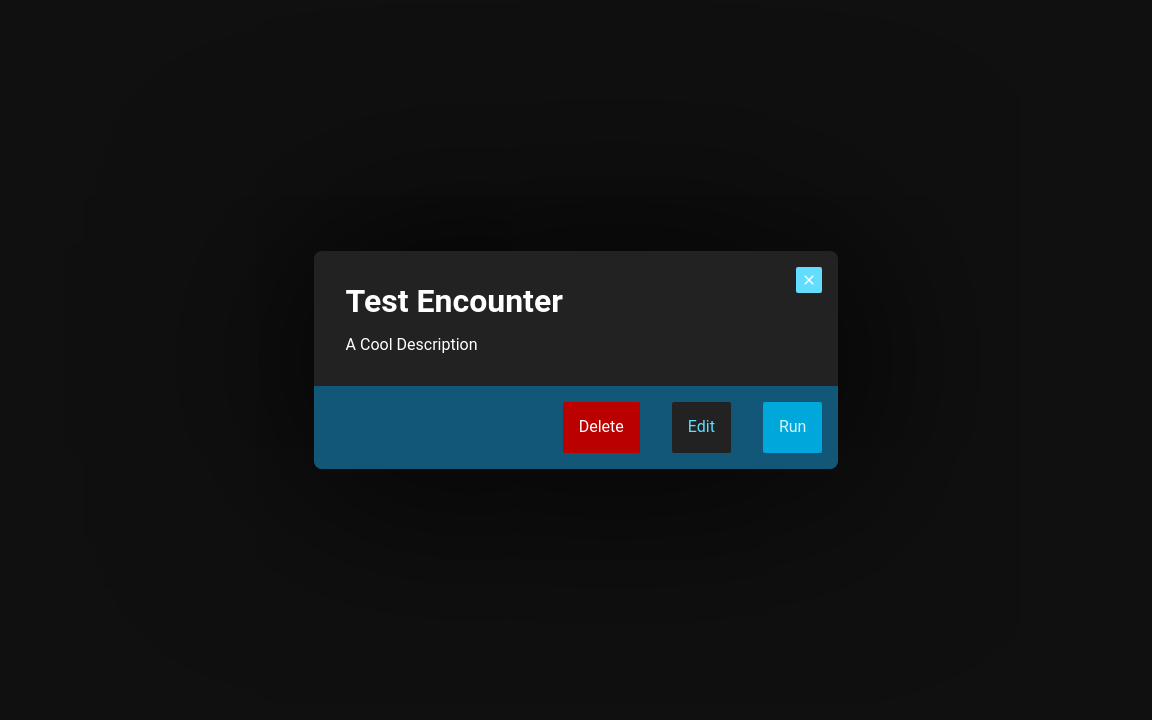
Test: Select Encounter Modal › should delete the encounter and close the modals when the Confirm button is clicked
This screenshot has width=1152, height=720.
Click the button labelled "Delete".
click(601, 428)  # box [563,402,640,453]
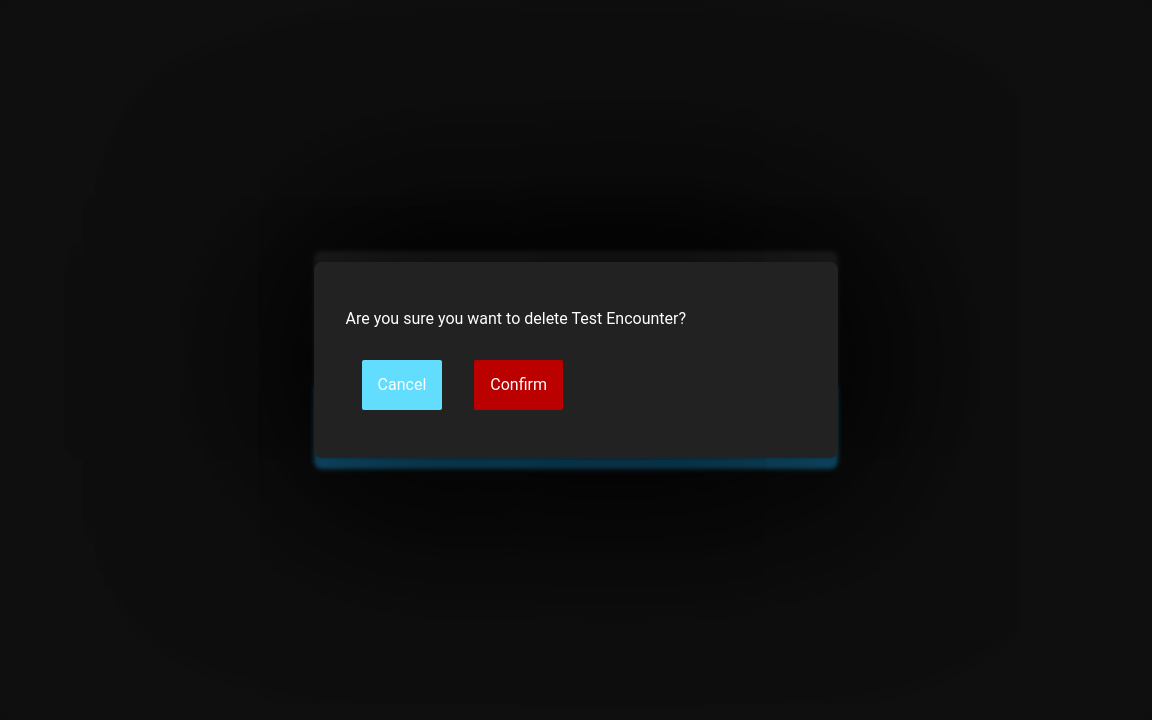
Click the button with aria-label "confirm delete".
click(519, 385)  # box [474,360,563,410]
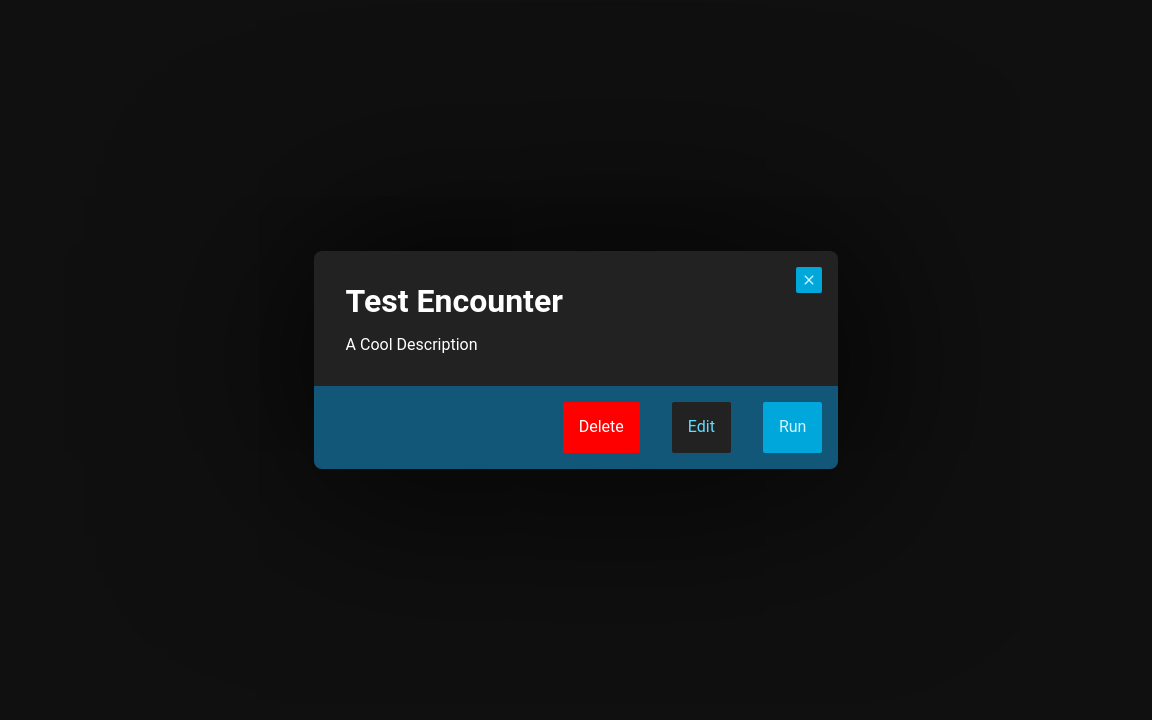
Now the text "Are you sure you want to delete Test Encounter?" is gone
